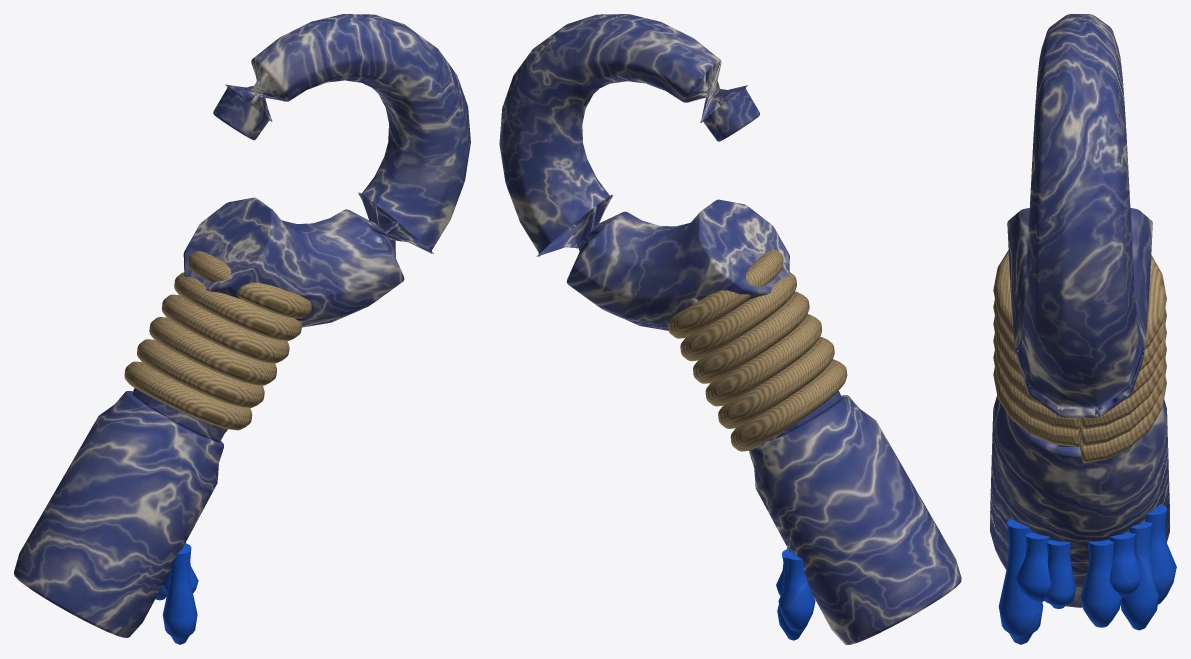
Rendered from hook.glb.
3 views of the same model, side by side, from view 1: azimuth 30°, elevation 25°; view 2: azimuth 150°, elevation 25°; view 3: azimuth 270°, elevation 25° (orthographic). The views are drawn at different scales.
Visible parts, largest first — view 1: hook; view 2: hook; view 3: hook.
Boxes of the visible parts, <box> form: hook: <box>14,14,470,644</box>; hook: <box>499,14,961,644</box>; hook: <box>990,14,1176,644</box>.
Size of the model in its own units: 0.6947 by 0.85 by 0.1996.
1 material, 1 textured.
